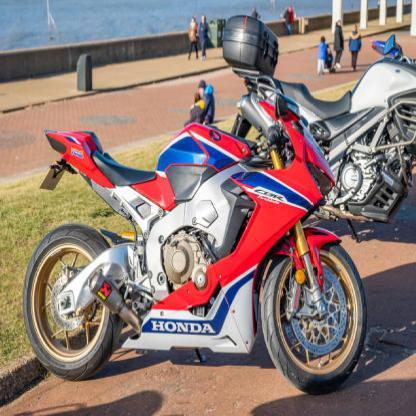Motorcycle: (20, 57, 370, 390)
